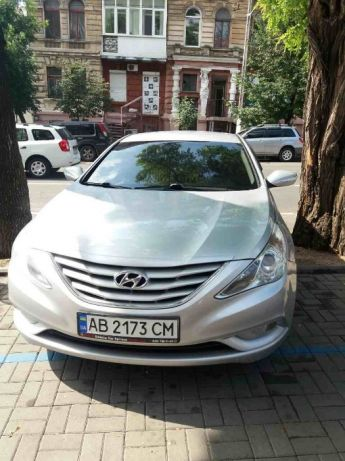car: (4, 130, 297, 368)
plate: (76, 313, 180, 343)
